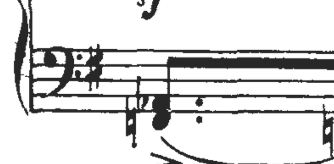bass_clef: (39, 38, 85, 106)
sharp: (85, 41, 106, 96)
